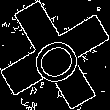O_NE: (22, 23, 88, 87)
